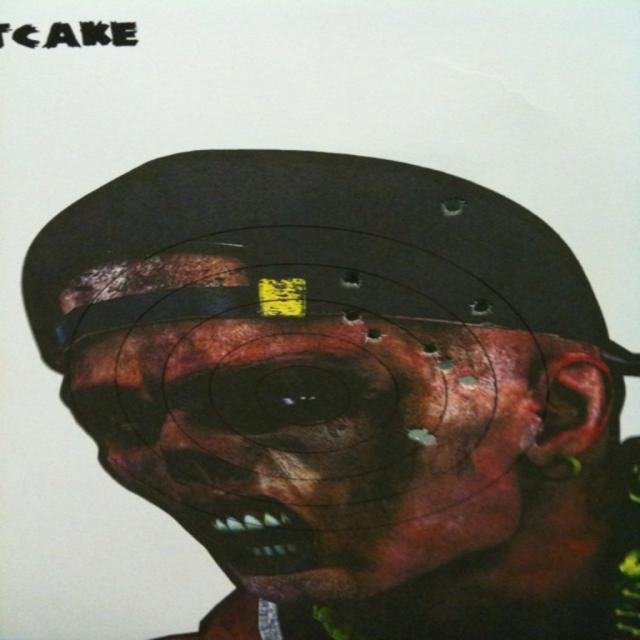Hat: (14, 148, 638, 378)
